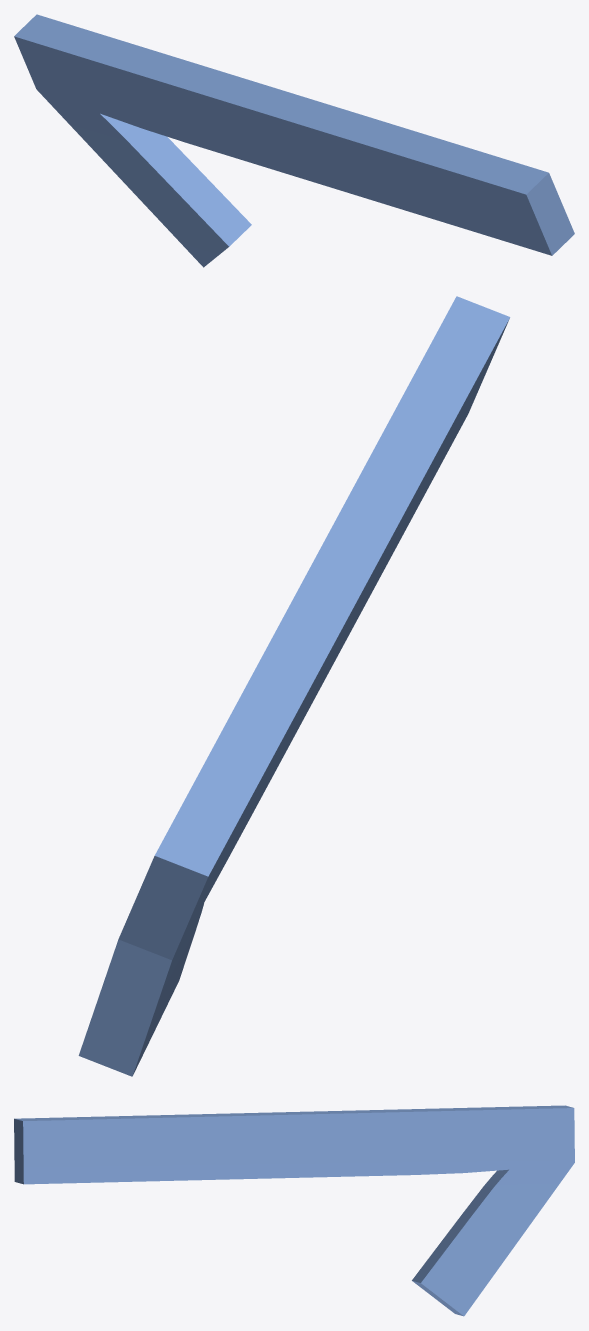
File: New_Number_1.gltf
3 views of the same model, one above another, from view 1: azimuth 30°, elevation 25°; view 2: azimuth 150°, elevation 25°; view 3: azimuth 270°, elevation 25° (orthographic). The views are drawn at different scales.
Parts seen in each view (by area): view 1: Part 703; view 2: Part 703; view 3: Part 703.
Part boxes in pixels (box(x1,y1,x2,y2)): Part 703: box(14, 14, 574, 267); Part 703: box(78, 296, 510, 1076); Part 703: box(14, 1105, 574, 1316).
Size of the model in its own units: 0.00171 by 0.00213 by 0.00494.
